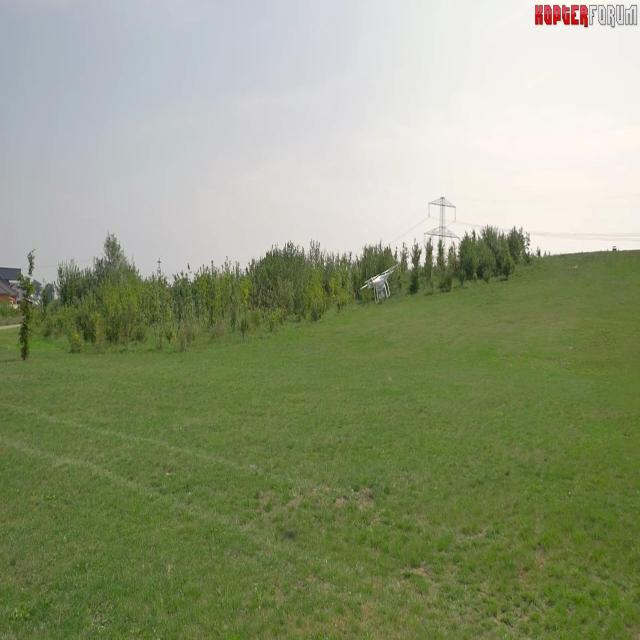drone: (362, 256, 400, 304)
